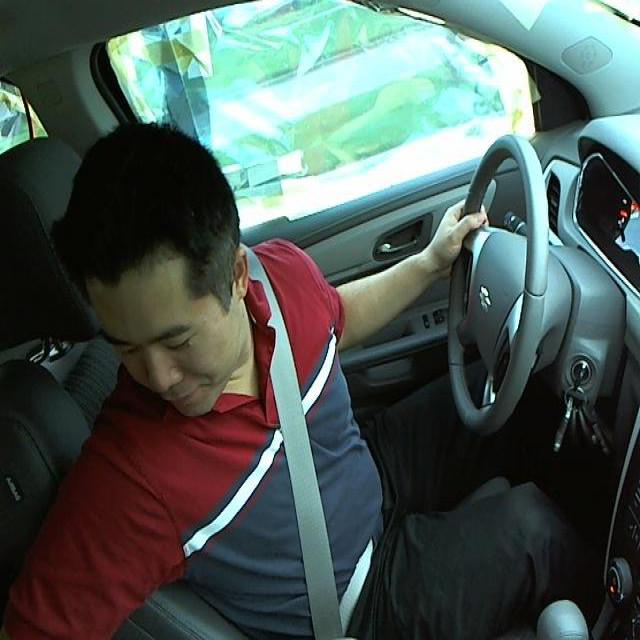seatbelt: (264, 348, 376, 639)
